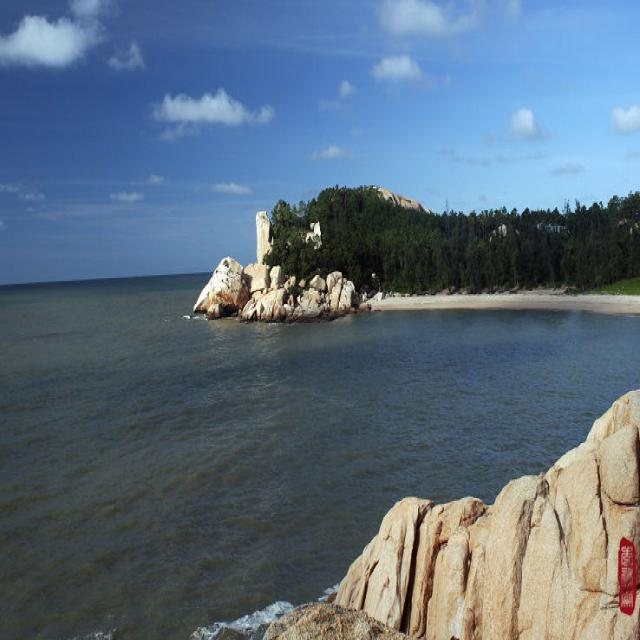reef: (268, 399, 636, 640), (181, 240, 355, 330)
